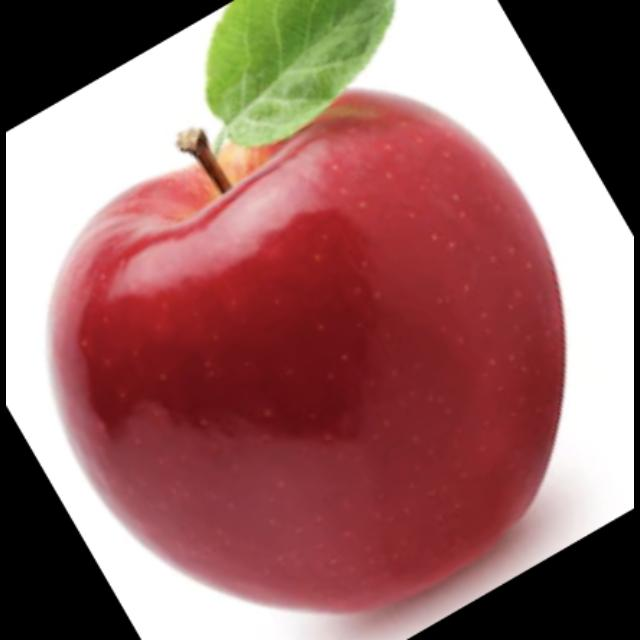Apel Segar: (51, 87, 570, 613)
